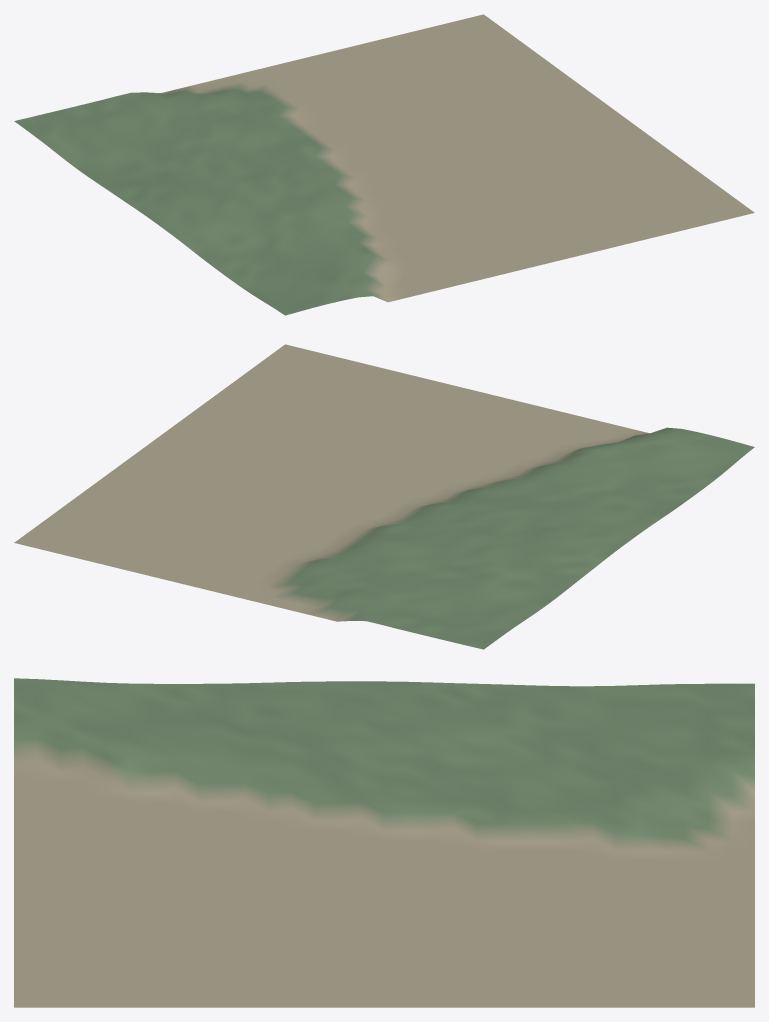
3 renders of one model, top to bottom at view 1: azimuth 30°, elevation 25°; view 2: azimuth 150°, elevation 25°; view 3: azimuth 270°, elevation 25°, orthographic. The views are drawn at different scales.
Visible parts, largest first — view 1: Terrain-col; view 2: Terrain-col; view 3: Terrain-col.
Boxes of the visible parts, box(x1,y1,x2,y2) form: Terrain-col: box(14, 14, 754, 315); Terrain-col: box(14, 344, 754, 649); Terrain-col: box(14, 678, 754, 1007).
Bounding box in the file's own units: 256 × 6.78 × 256.
